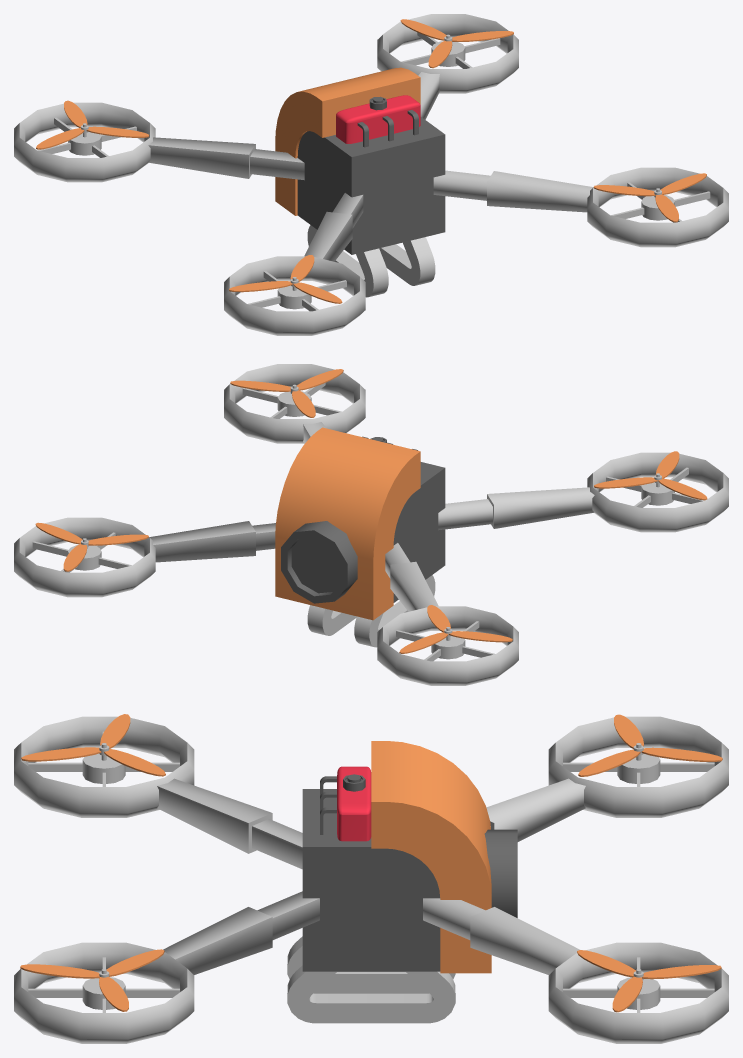
The model's file is drone.glb.
The picture shows the model from 3 angles, top to bottom: view 1: azimuth 30°, elevation 25°; view 2: azimuth 150°, elevation 25°; view 3: azimuth 270°, elevation 25°; orthographic projection. The views are drawn at different scales.
Visible parts, largest first — view 1: Torus (×4), Cube (×2), Cylindrical Lathe (×4), Spline 2D (×3), Cylinder (×2); view 2: Torus (×4), Spline 2D (×3), Cylindrical Lathe (×4), Cube, Cylinder (×2); view 3: Torus (×4), Spline 2D (×3), Cylindrical Lathe (×5), Cube (×2), Cylinder (×16).
Part boxes in pixels (left/top/right/bottom): Torus (×4): left=14, top=14, right=728, bottom=335; Cube (×2): left=297, top=95, right=445, bottom=254; Cylindrical Lathe (×4): left=148, top=72, right=593, bottom=261; Spline 2D (×3): left=275, top=67, right=435, bottom=297; Cylinder (×2): left=68, top=132, right=311, bottom=309; Torus (×4): left=14, top=364, right=728, bottom=685; Spline 2D (×3): left=275, top=427, right=435, bottom=647; Cylindrical Lathe (×4): left=149, top=487, right=594, bottom=611; Cube: left=393, top=462, right=445, bottom=602; Cylinder (×2): left=431, top=482, right=674, bottom=659; Torus (×4): left=14, top=716, right=728, bottom=1043; Spline 2D (×3): left=287, top=741, right=491, bottom=1023; Cylindrical Lathe (×5): left=157, top=778, right=585, bottom=974; Cube (×2): left=302, top=766, right=440, bottom=971; Cylinder (×16): left=20, top=714, right=722, bottom=1012.
Size of the model in its own units: 2.08 by 0.7475 by 2.08.
